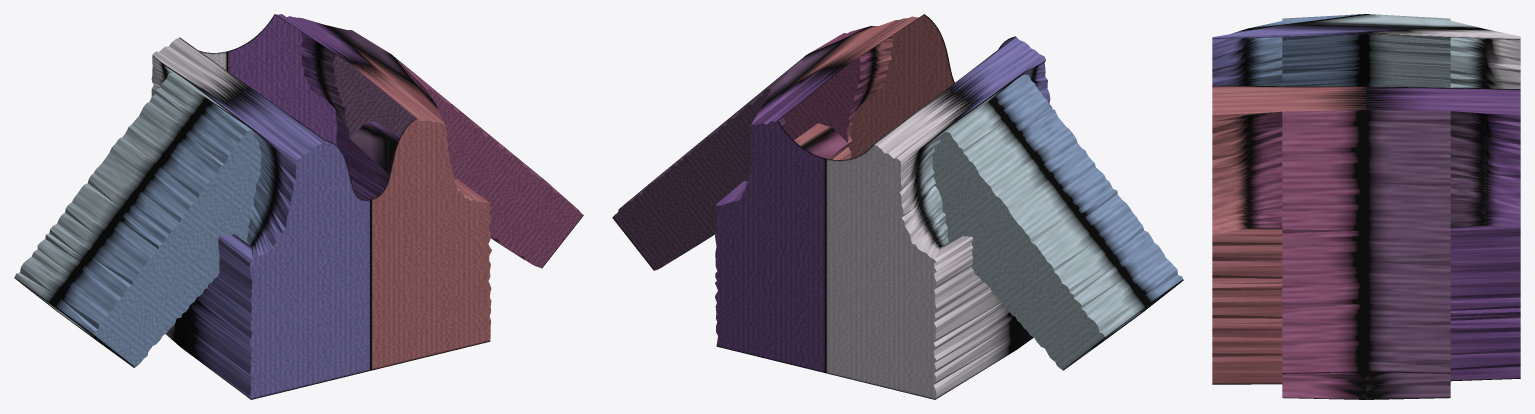
File: valid_garment_upper_boxmesh.obj
3 renders of one model, left to right at view 1: azimuth 30°, elevation 25°; view 2: azimuth 150°, elevation 25°; view 3: azimuth 270°, elevation 25°, orthographic. The views are drawn at different scales.
Bounding box in the file's own units: 110 × 51.43 × 55.
1 material, 1 textured.
